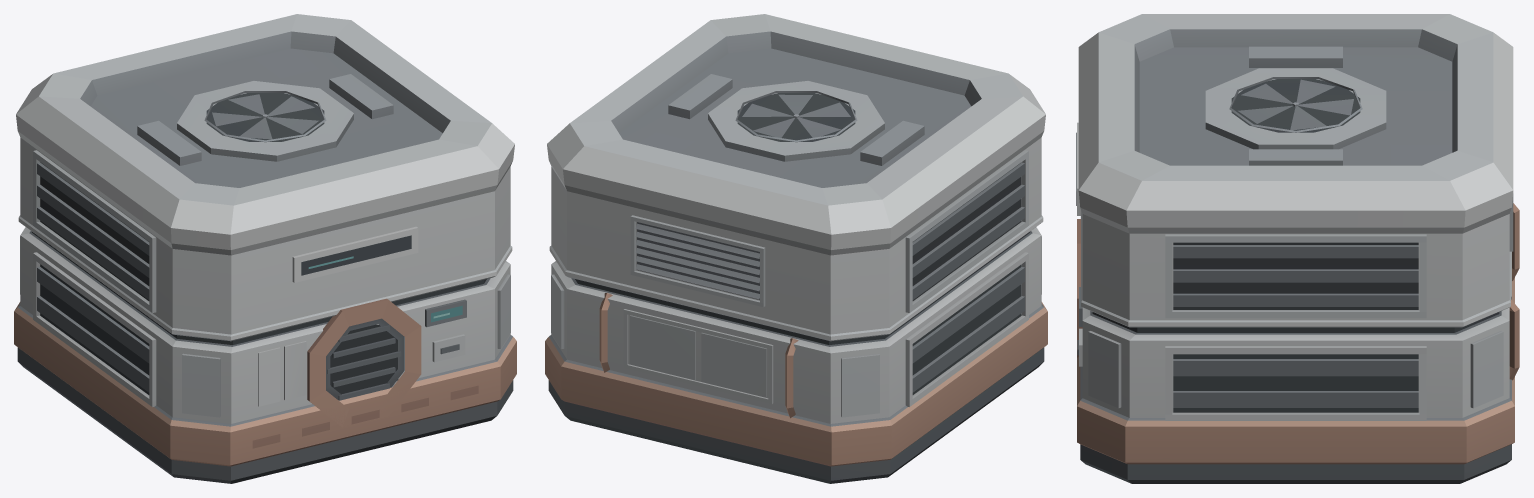
The model's file is reactor.lod1.glb.
The picture shows the model from 3 angles, left to right: view 1: azimuth 30°, elevation 25°; view 2: azimuth 150°, elevation 25°; view 3: azimuth 270°, elevation 25°; orthographic projection. The views are drawn at different scales.
Bounding box in the file's own units: 11.2 × 8.4 × 11.34.
